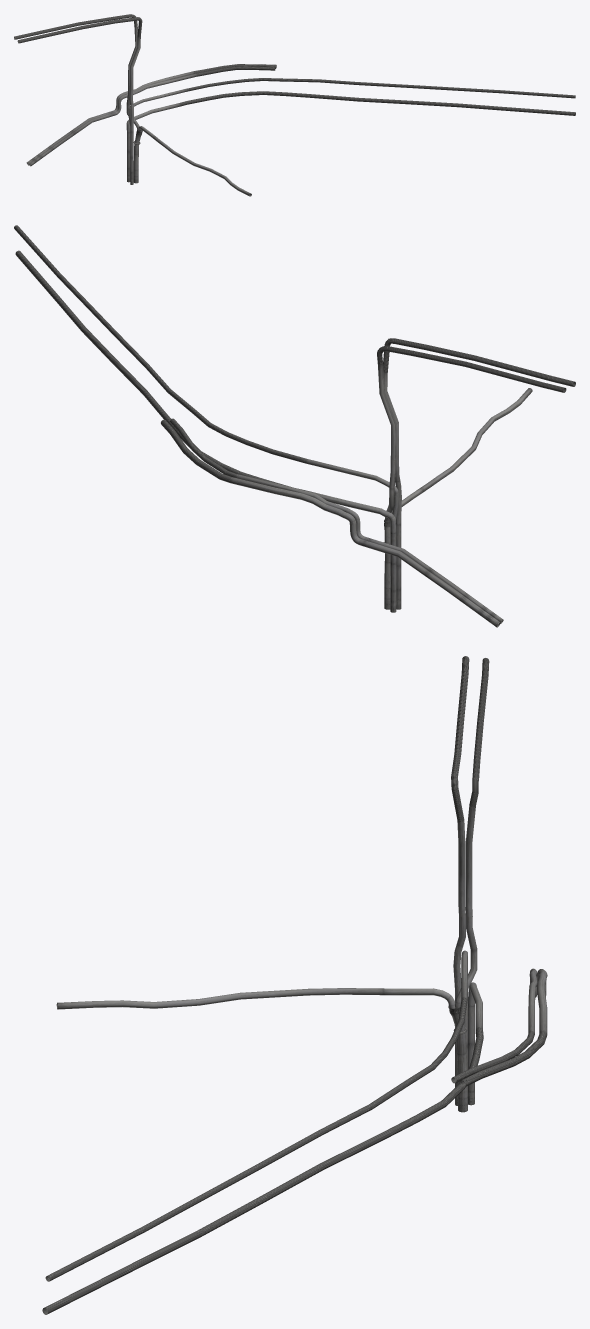
The model's file is SM_CorridorSculpture_02_pipes_00.fbx.
3 renders of one model, top to bottom at view 1: azimuth 30°, elevation 25°; view 2: azimuth 150°, elevation 25°; view 3: azimuth 270°, elevation 25°, orthographic. The views are drawn at different scales.
Parts seen in each view (by area): view 1: SM_CorridorSculpture_02_pipes_00; view 2: SM_CorridorSculpture_02_pipes_00; view 3: SM_CorridorSculpture_02_pipes_00.
Boxes of the visible parts, box(x1,y1,x2,y2) form: SM_CorridorSculpture_02_pipes_00: box(14, 14, 575, 196); SM_CorridorSculpture_02_pipes_00: box(14, 225, 575, 627); SM_CorridorSculpture_02_pipes_00: box(42, 656, 547, 1314).
Bounding box in the file's own units: 7786 × 2791 × 3756.
